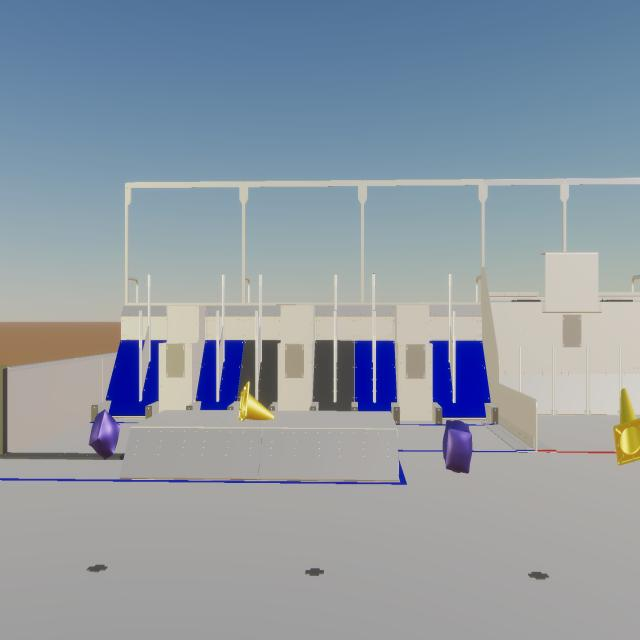frc_cone: (613, 388, 640, 466), (238, 381, 274, 421)
frc_cube: (89, 409, 120, 460), (443, 420, 472, 474)
